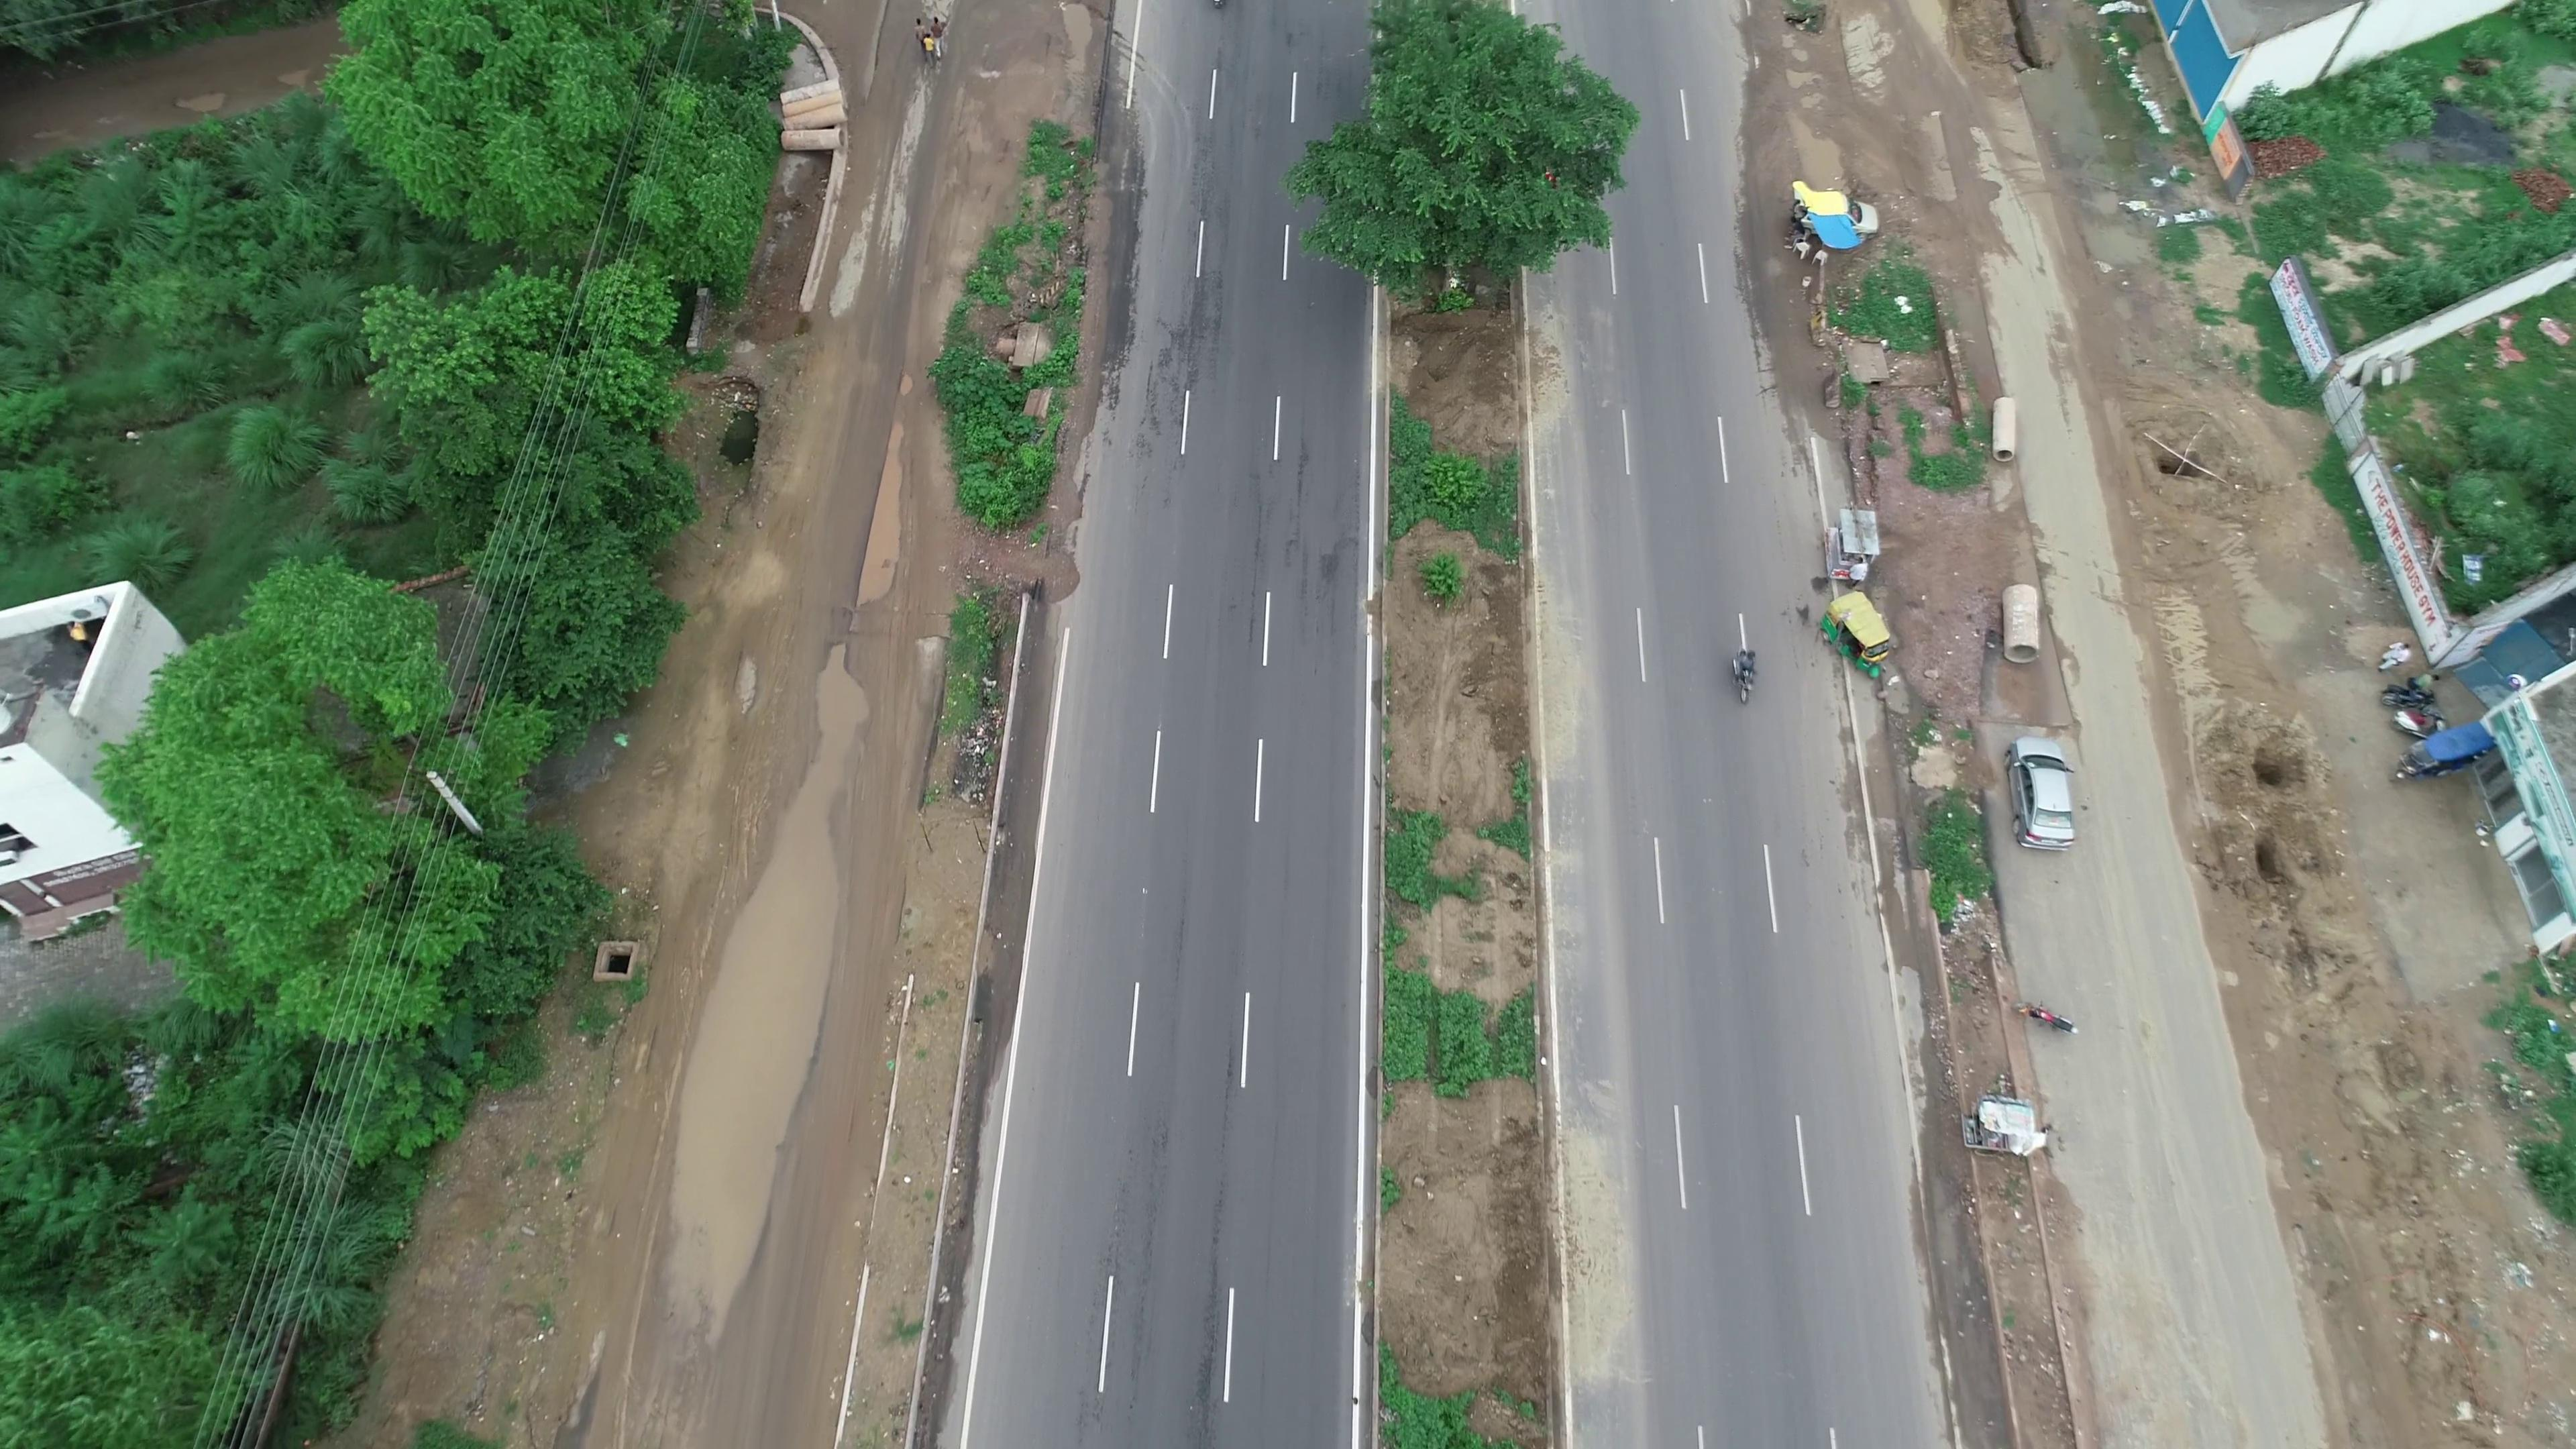Potholes: (890, 352, 932, 410)
Ravelling: (1134, 271, 1214, 449)
Waterlogging: (639, 738, 863, 1297), (849, 416, 920, 605)
